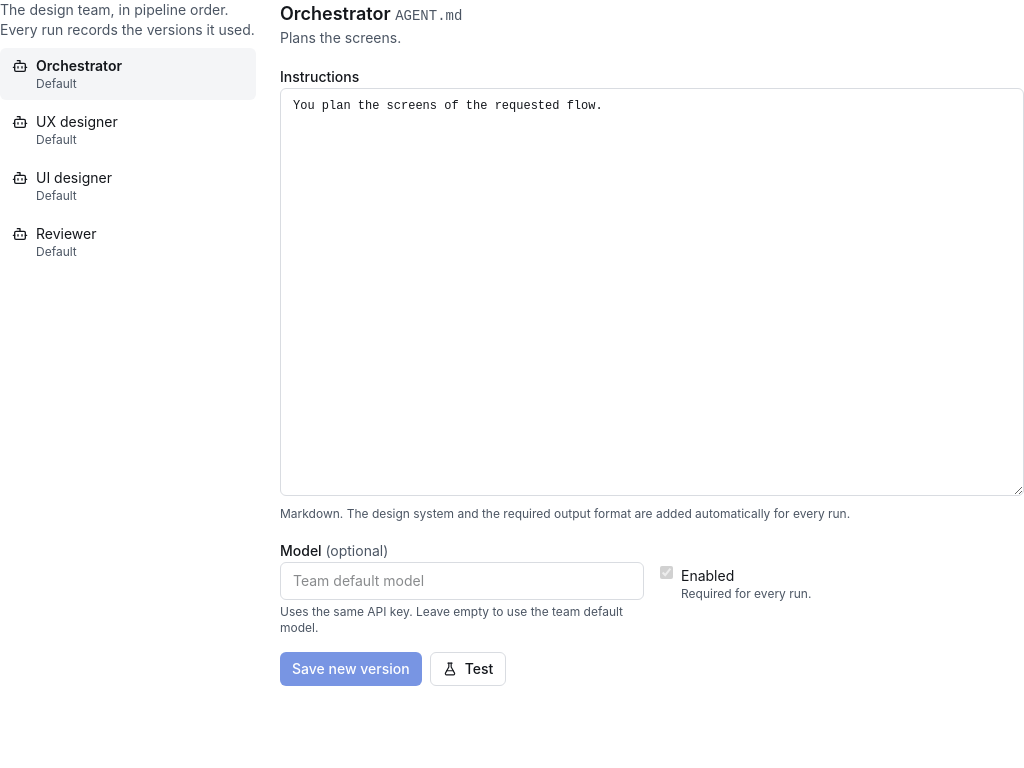
Test: Test this agent › pretty-prints JSON output, flags output a run could not use, and omits the default system
Click the button "Test" at {"x": 468, "y": 669}, box x1=430 y1=652 x2=506 y2=686
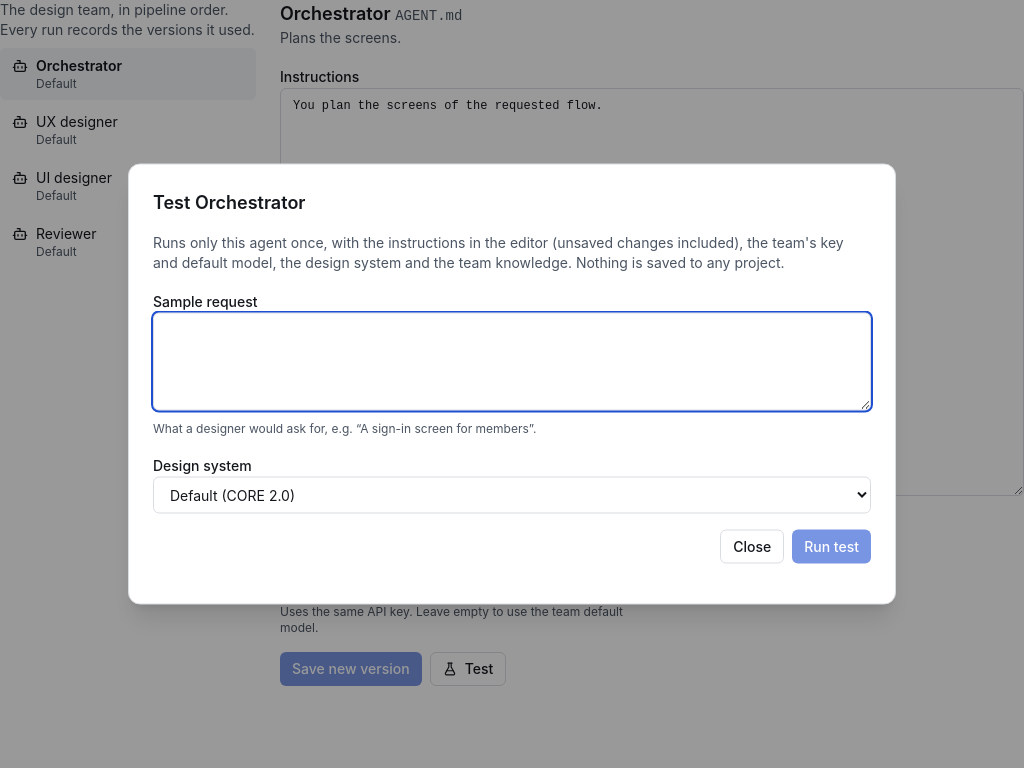
Type "A loan application" into the text box labelled "Sample request" at {"x": 512, "y": 362}, box x1=153 y1=312 x2=871 y2=410
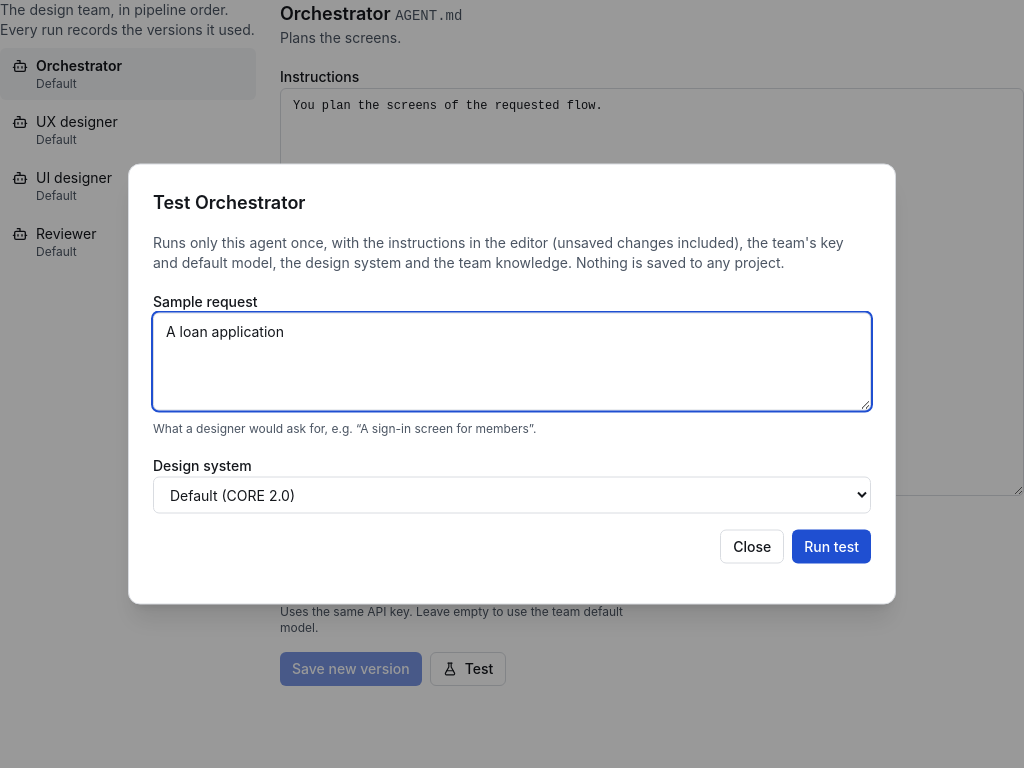
Click the button "Run test" at {"x": 832, "y": 546}, box x1=792 y1=530 x2=871 y2=564
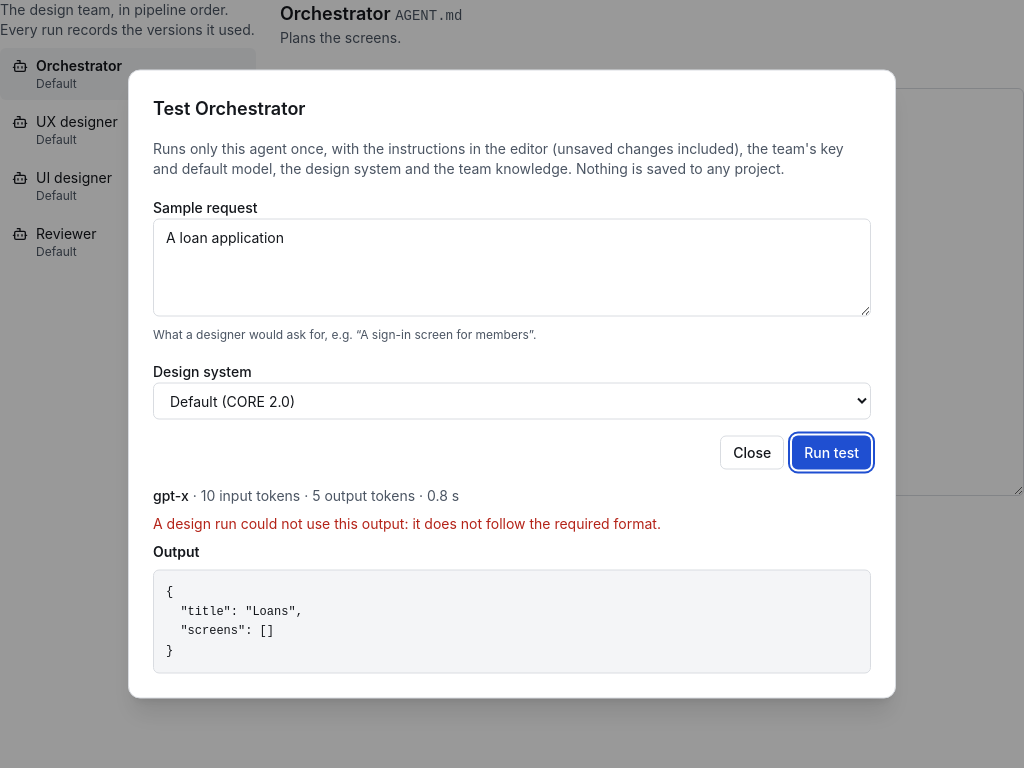
expect the dialog "Test Orchestrator" shows "A design run could not use this output": met, box x1=153 y1=514 x2=661 y2=532
